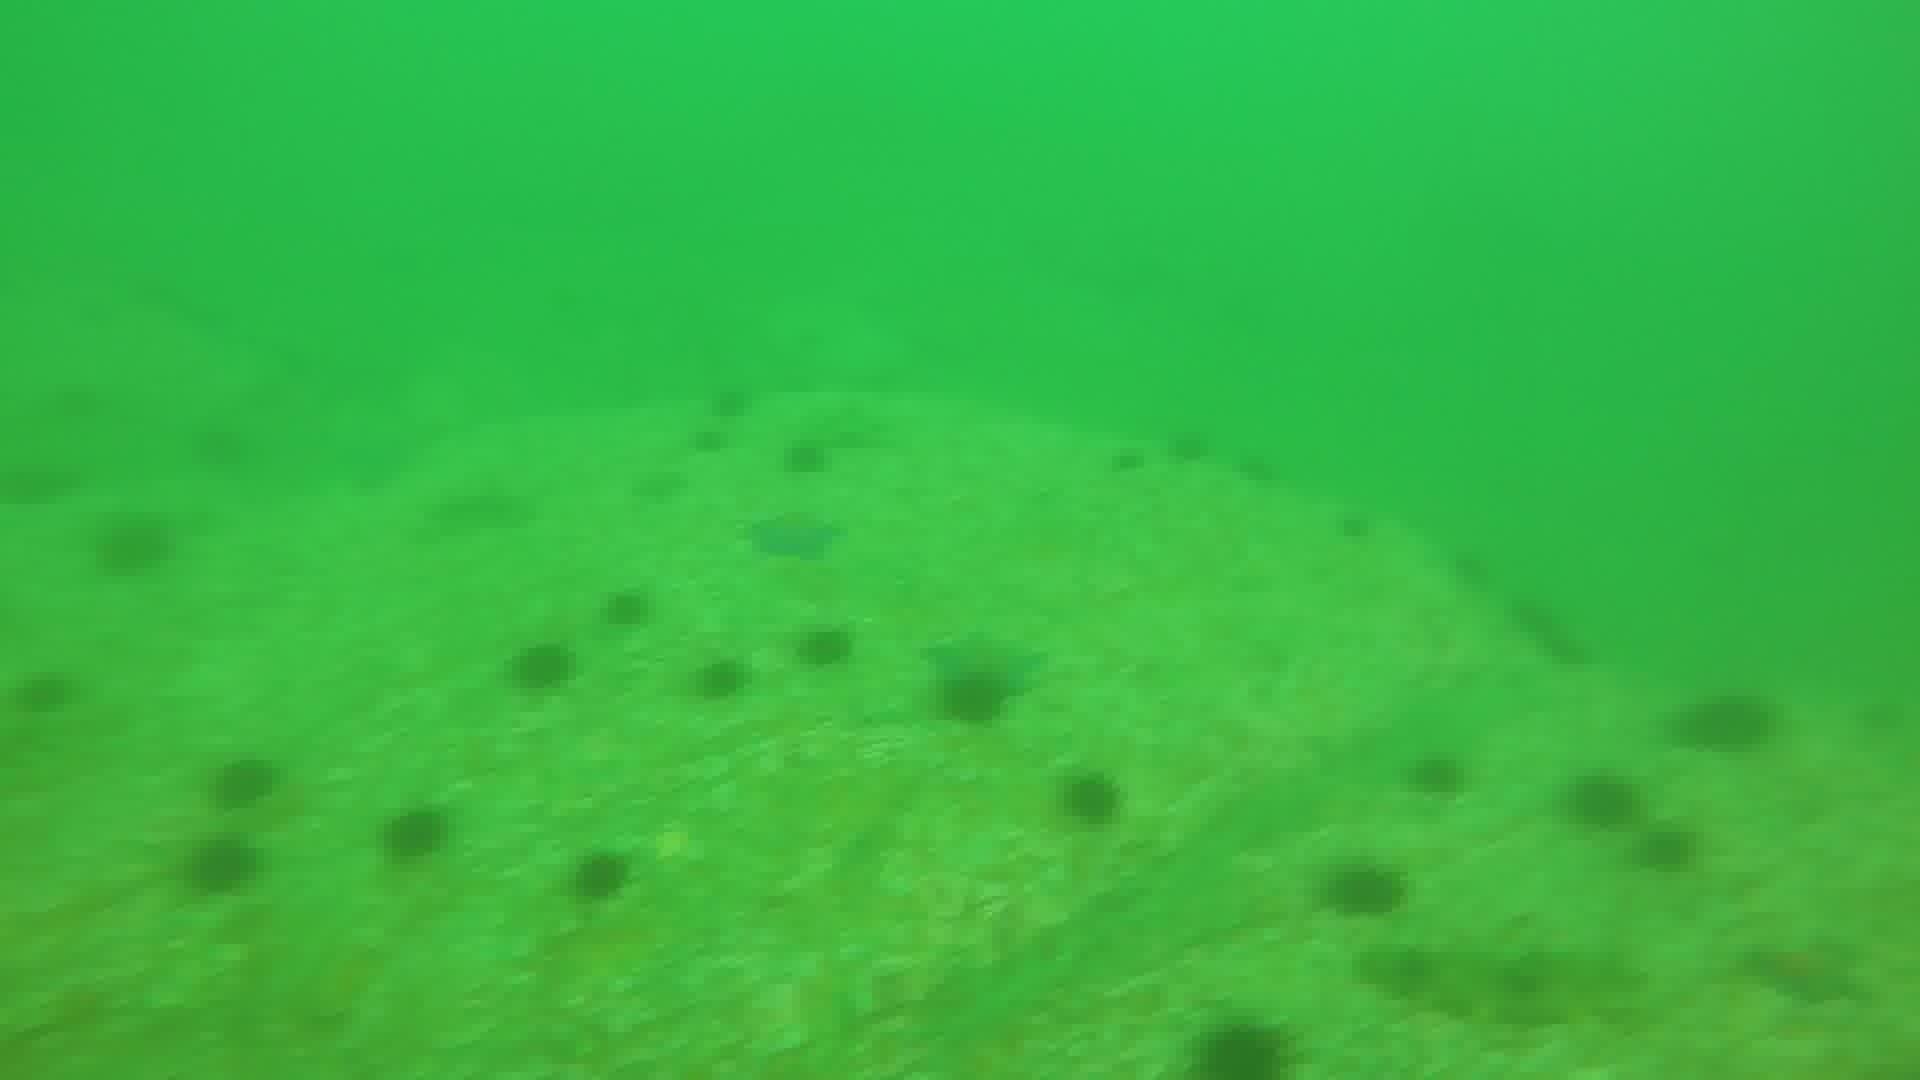echinus: (1672, 687, 1778, 757), (1189, 1015, 1298, 1079), (1507, 589, 1594, 667), (90, 508, 177, 580), (1321, 857, 1410, 923), (182, 833, 262, 899), (1563, 767, 1643, 833), (376, 800, 454, 866), (934, 666, 1013, 731), (207, 752, 284, 814), (1055, 767, 1127, 831), (505, 637, 579, 698), (564, 845, 636, 907), (9, 665, 80, 720), (1633, 822, 1701, 878), (1402, 748, 1472, 803), (793, 621, 858, 674), (688, 653, 752, 705), (597, 583, 655, 634), (1445, 543, 1498, 593), (779, 434, 833, 480), (704, 378, 756, 423), (1164, 425, 1215, 469), (1233, 446, 1282, 489), (1331, 504, 1378, 546), (1104, 442, 1149, 479), (687, 422, 732, 458)
holothurian: (1360, 934, 1640, 1033)
starfish: (913, 953, 1065, 1075), (1742, 931, 1869, 1009), (924, 626, 1048, 695), (744, 505, 844, 566)
